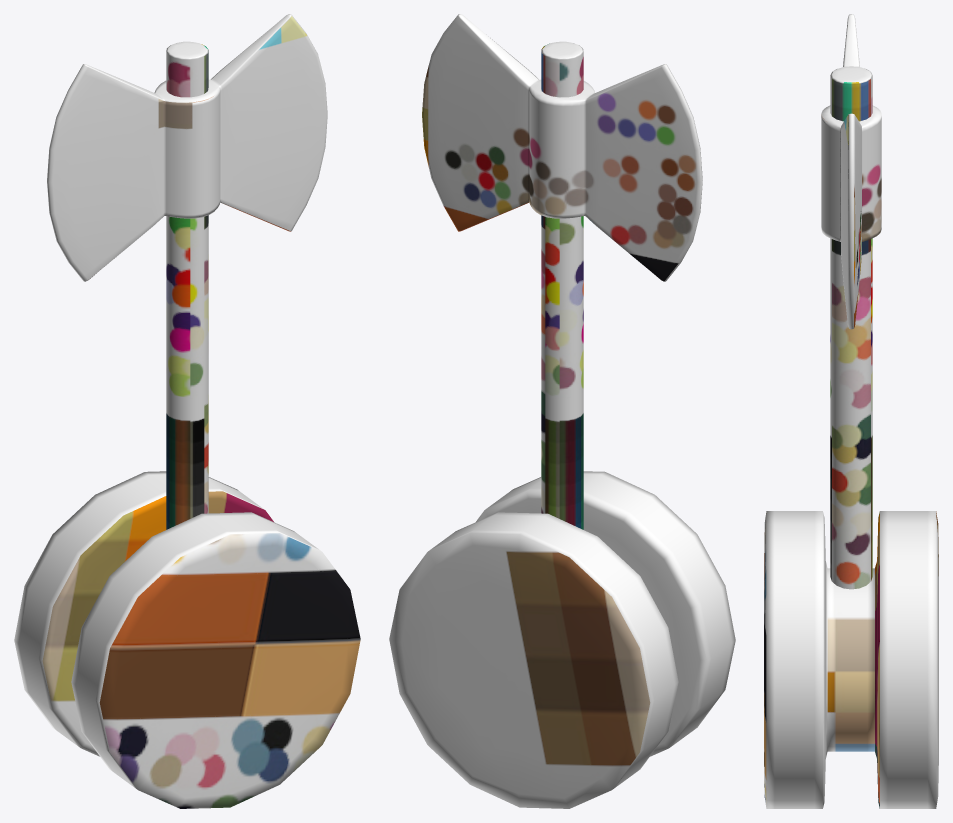
File: AxeMachine.fbx
The picture shows the model from 3 angles, left to right: view 1: azimuth 30°, elevation 25°; view 2: azimuth 150°, elevation 25°; view 3: azimuth 270°, elevation 25°; orthographic projection.
Parts seen in each view (by area): view 1: AxeMechanism, polySurface2, polySurface1; view 2: AxeMechanism, polySurface2, polySurface1; view 3: AxeMechanism, polySurface1, polySurface2.
Part boxes in pixels (<box>): AxeMechanism: <box>14,471,360,808</box>; polySurface2: <box>47,14,327,281</box>; polySurface1: <box>166,41,208,529</box>; AxeMechanism: <box>389,471,735,808</box>; polySurface2: <box>422,14,702,281</box>; polySurface1: <box>541,41,583,529</box>; AxeMechanism: <box>764,511,938,808</box>; polySurface1: <box>830,66,872,589</box>; polySurface2: <box>821,14,881,329</box>.
Size of the model in its own units: 67.54 by 170 by 36.78.
